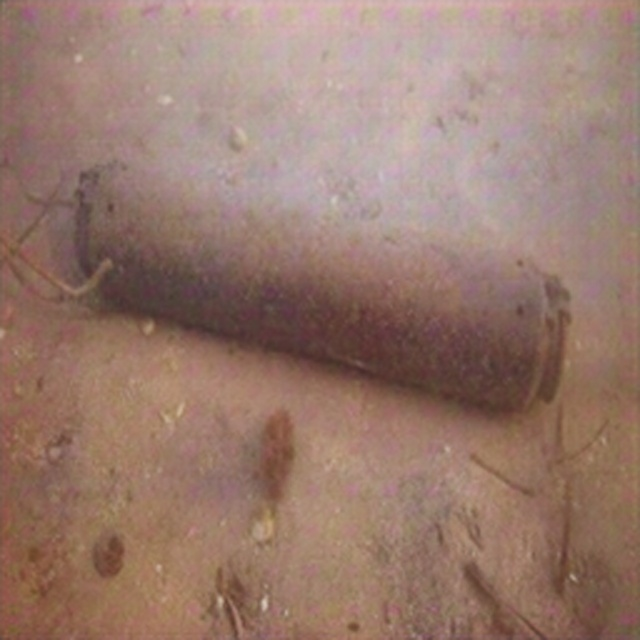mine: (72, 157, 571, 412)
